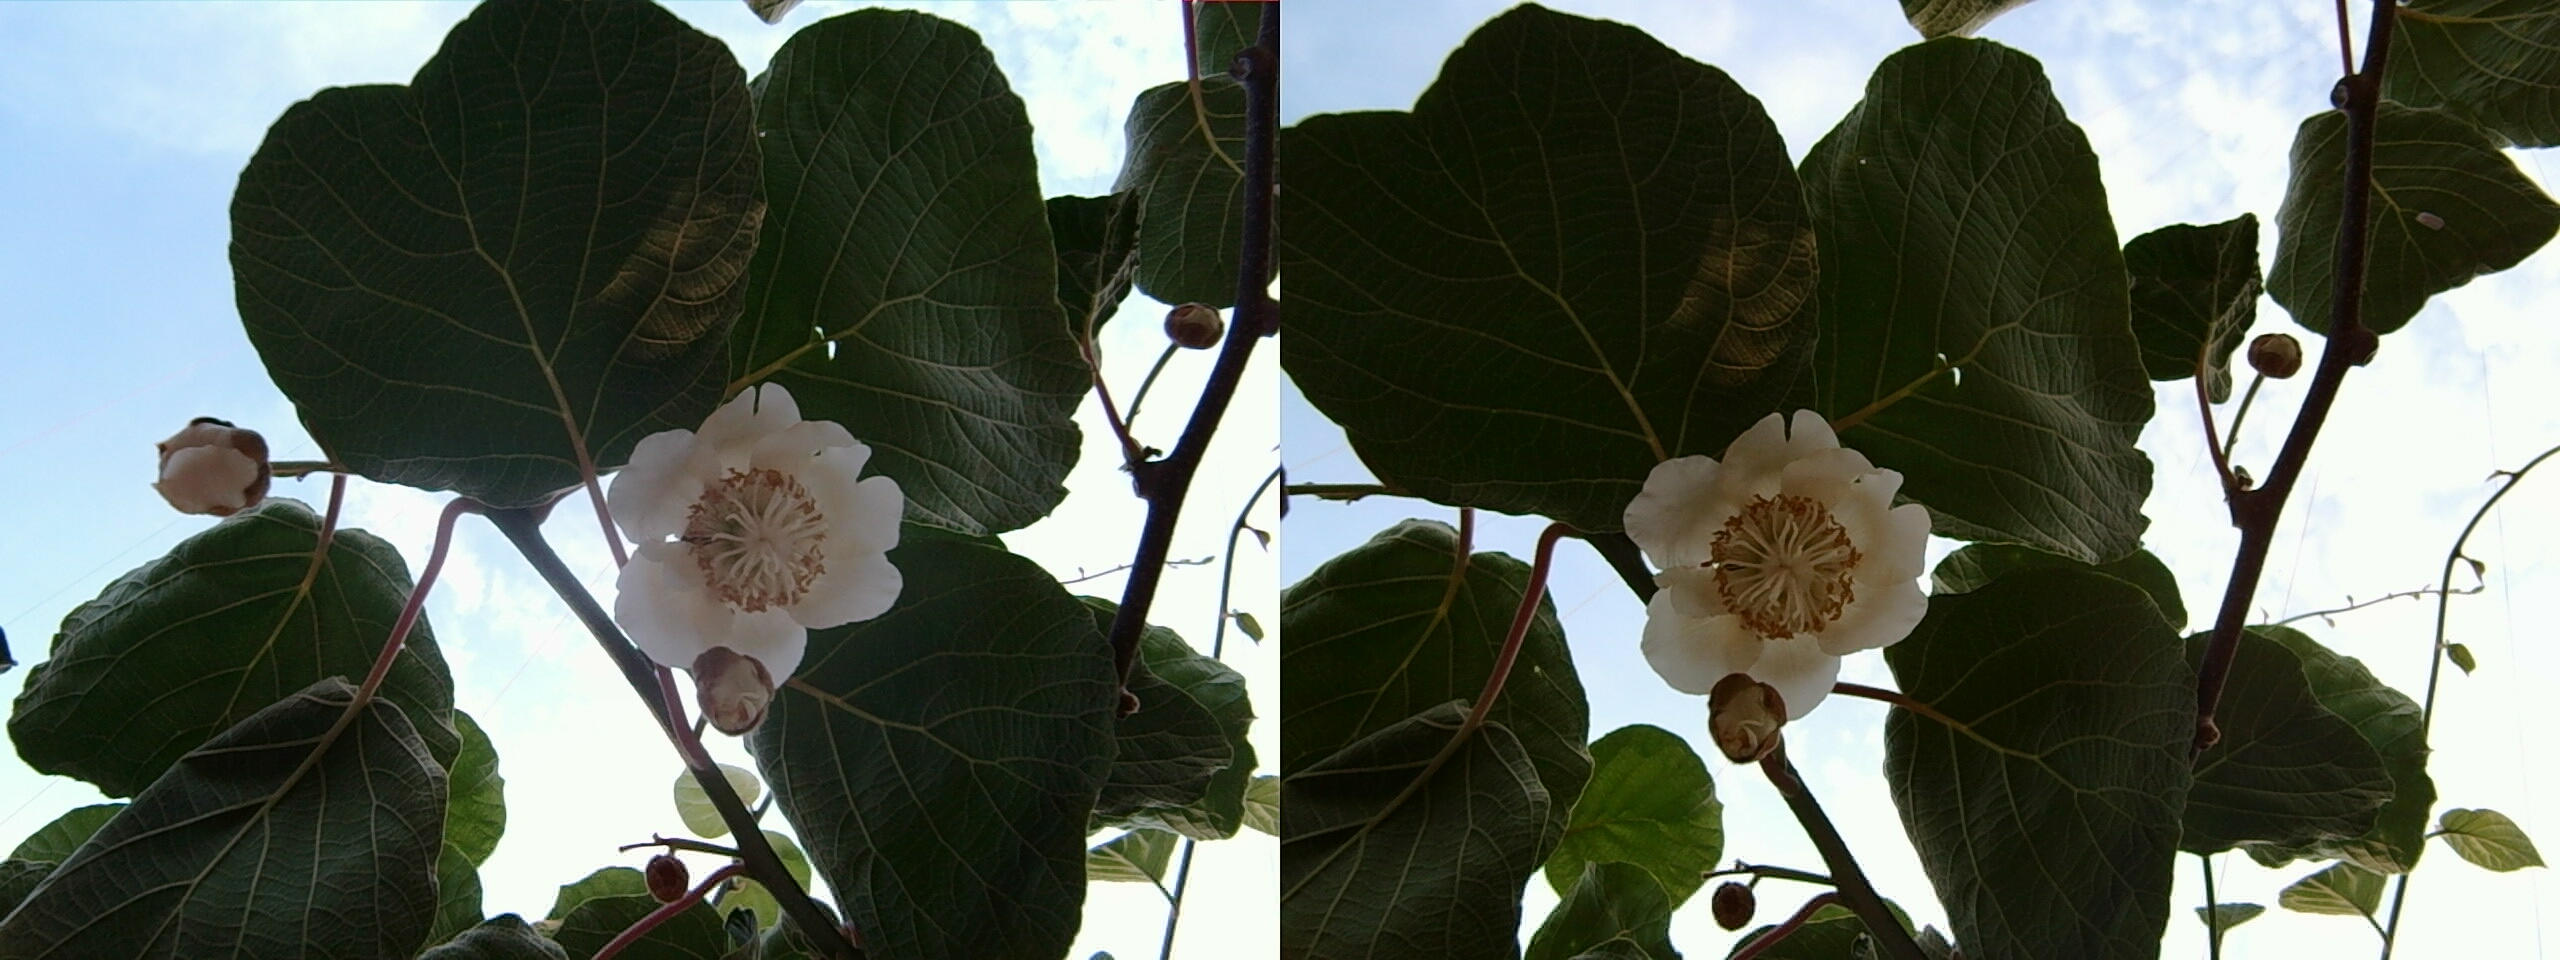flower: (609, 387, 896, 682), (1628, 407, 1920, 692), (150, 415, 266, 511)
